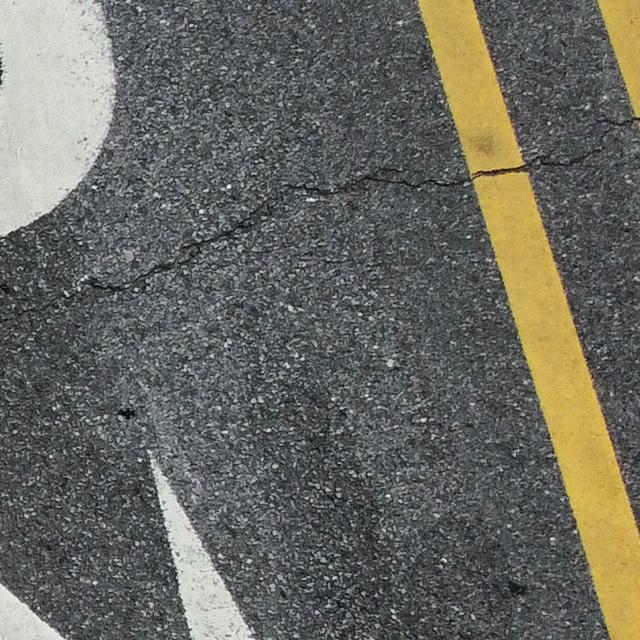TransverseCrack: (87, 117, 640, 298)
